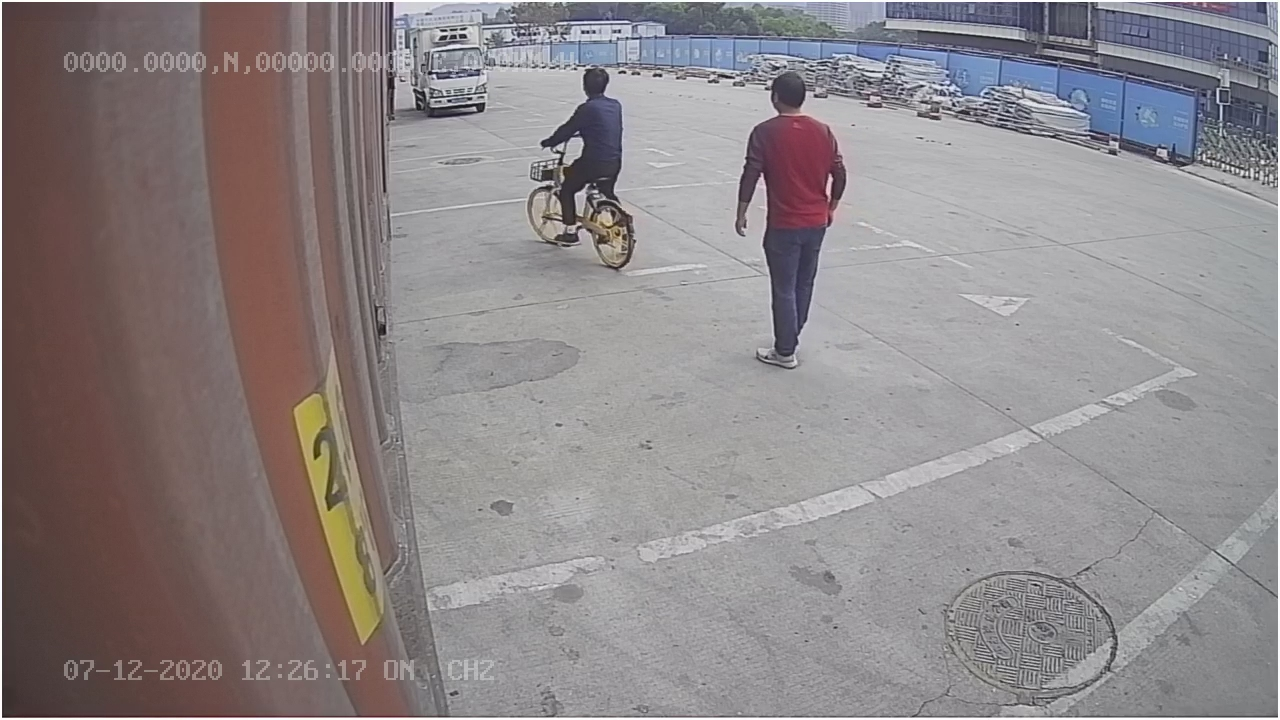person: (731, 65, 851, 369)
